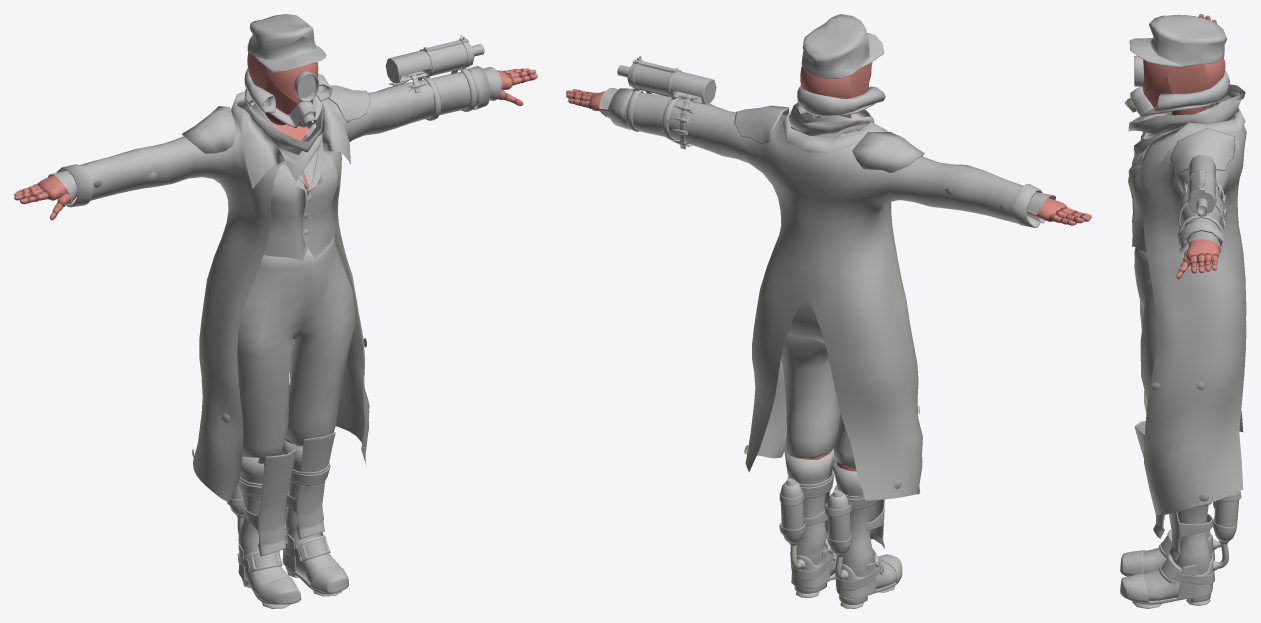
Rendered from X_Bot_Clothed_02.fbx.
The picture shows the model from 3 angles, left to right: view 1: azimuth 30°, elevation 25°; view 2: azimuth 150°, elevation 25°; view 3: azimuth 270°, elevation 25°; orthographic projection.
Visible parts, largest first — view 1: OverCoat.001, Pantaloons_Lowploy, Vest.001, Beta_Surface, Hat, ShillGuard_new1, ShillGuard_new, OverCoat_Sholderpads, RocketLancher, Base_Boot_R, Scarf.001, SteelToe_Boot (×2) (+5 smaller); view 2: OverCoat.001, Pantaloons_Lowploy, Hat, OverCoat_Sholderpads, Beta_Surface, Base_Boot_L, RocketLancher, Base_Boot_R, Tank (×2), Scarf.001, IntakeMask, ShillGuard_new1 (+2 smaller); view 3: OverCoat.001, Hat, Beta_Surface, Base_Boot_L, Scarf.001, Pantaloons_Lowploy, OverCoat_Sholderpads, ShillGuard_new, RocketLancher, IntakeMask, SteelToe_Boot (×2), Vest.001 (+15 smaller).
Boxes of the visible parts, x1,y1,x2,y2 form: OverCoat.001: (56, 66, 490, 501); Pantaloons_Lowploy: (237, 236, 355, 463); Vest.001: (244, 102, 338, 261); Beta_Surface: (14, 52, 537, 552); Hat: (247, 14, 326, 72); ShillGuard_new1: (238, 449, 296, 581); ShillGuard_new: (282, 432, 335, 571); OverCoat_Sholderpads: (182, 85, 371, 153); RocketLancher: (385, 38, 484, 83); Base_Boot_R: (238, 453, 291, 595); Scarf.001: (244, 89, 324, 181); SteelToe_Boot (×2): (258, 566, 348, 604); OverCoat.001: (608, 88, 1042, 500); Pantaloons_Lowploy: (781, 300, 855, 468); Hat: (801, 14, 884, 78); OverCoat_Sholderpads: (734, 105, 924, 172); Beta_Surface: (566, 63, 1091, 471); Base_Boot_L: (784, 449, 836, 575); RocketLancher: (617, 59, 716, 104); Base_Boot_R: (831, 460, 897, 589); Tank (×2): (780, 481, 850, 554); Scarf.001: (789, 102, 874, 138); IntakeMask: (797, 85, 885, 116); ShillGuard_new1: (836, 499, 884, 599); OverCoat.001: (1140, 107, 1246, 514); Hat: (1129, 14, 1226, 66); Beta_Surface: (1142, 14, 1225, 278); Base_Boot_L: (1143, 505, 1210, 600); Scarf.001: (1128, 84, 1245, 157); Pantaloons_Lowploy: (1134, 247, 1156, 401); OverCoat_Sholderpads: (1169, 128, 1235, 174); ShillGuard_new: (1169, 512, 1213, 599); RocketLancher: (1187, 155, 1216, 216); IntakeMask: (1154, 70, 1229, 112); SteelToe_Boot (×2): (1120, 550, 1148, 602); Vest.001: (1128, 117, 1233, 252).
Bounding box in the file's own units: 181 × 187 × 37.68.
